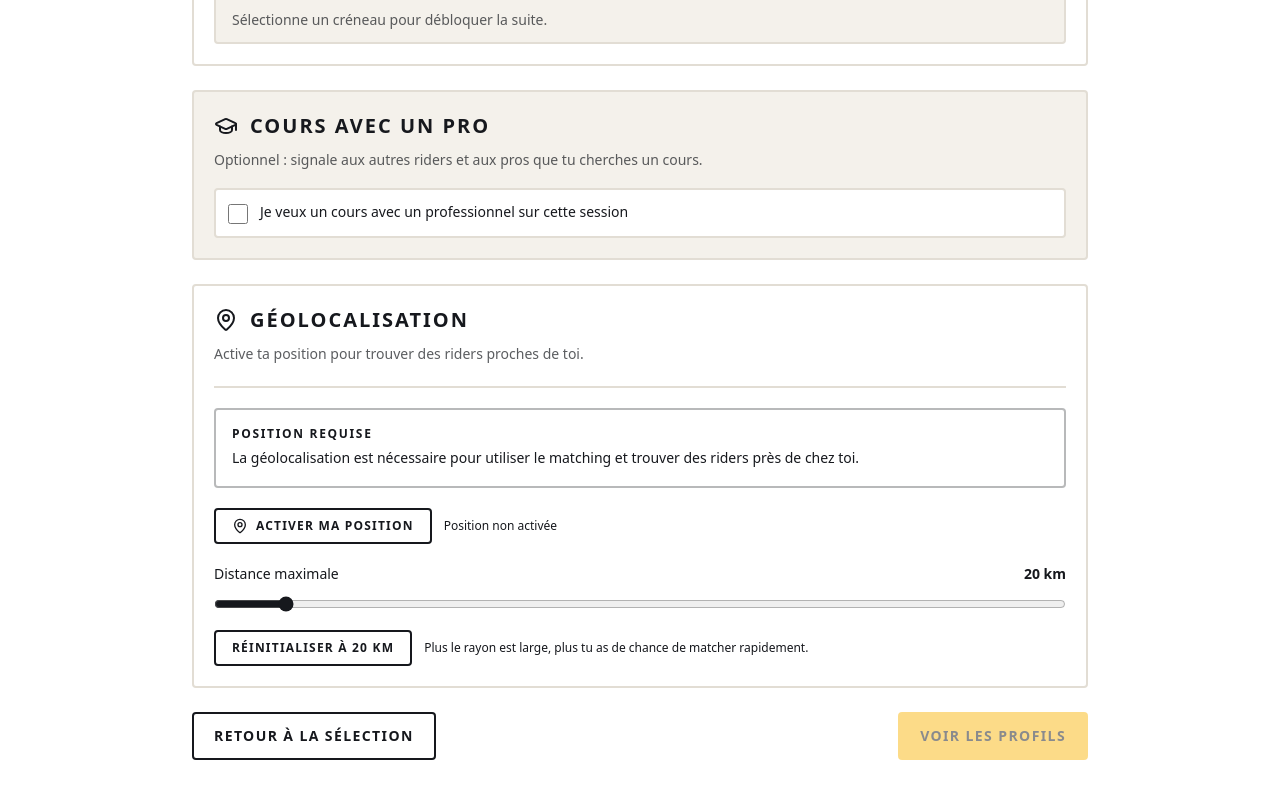
Test: Matching date step › persists the position to the profile on geolocation success (discoverability)
(page scrolled)
Click the button "Activer ma position" at [323, 526], box [214,508,432,544]
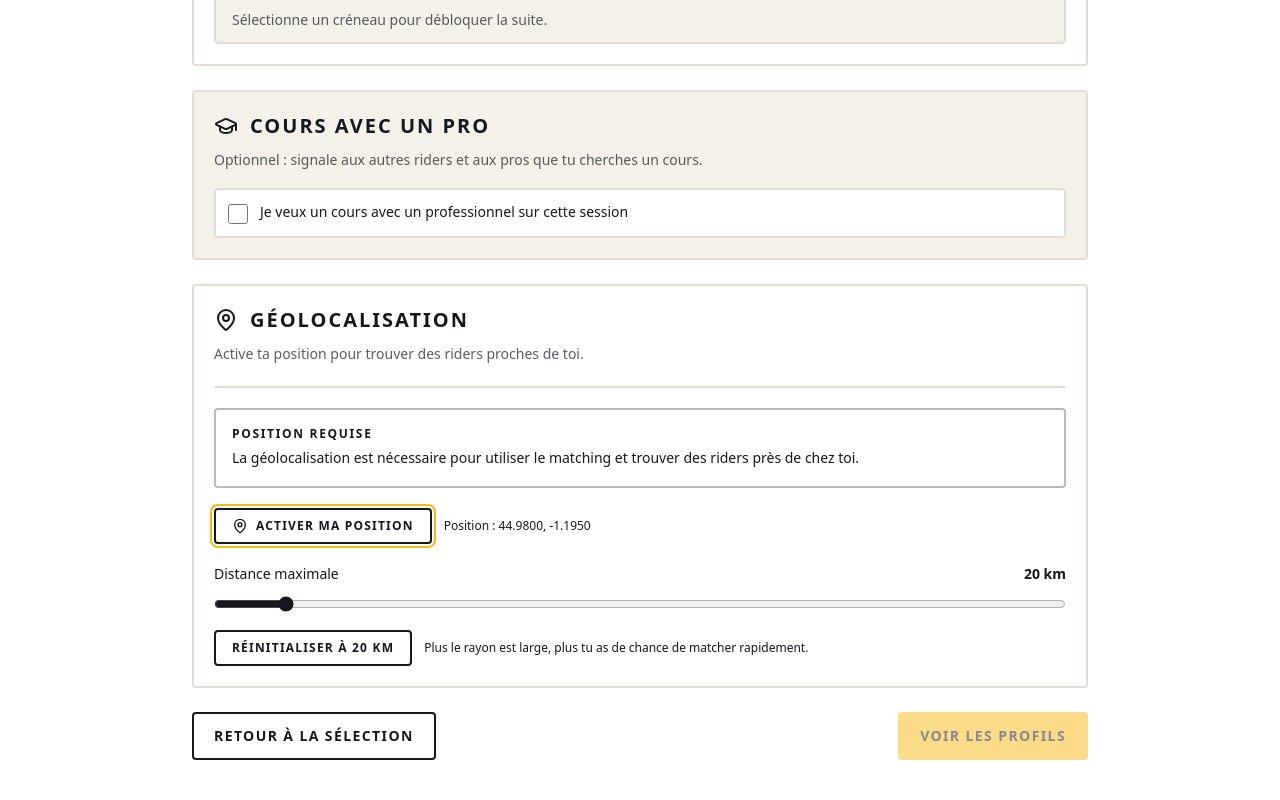
Expected: the text "Position : 44.9800, -1.1950" is shown, [444,518,591,534]
